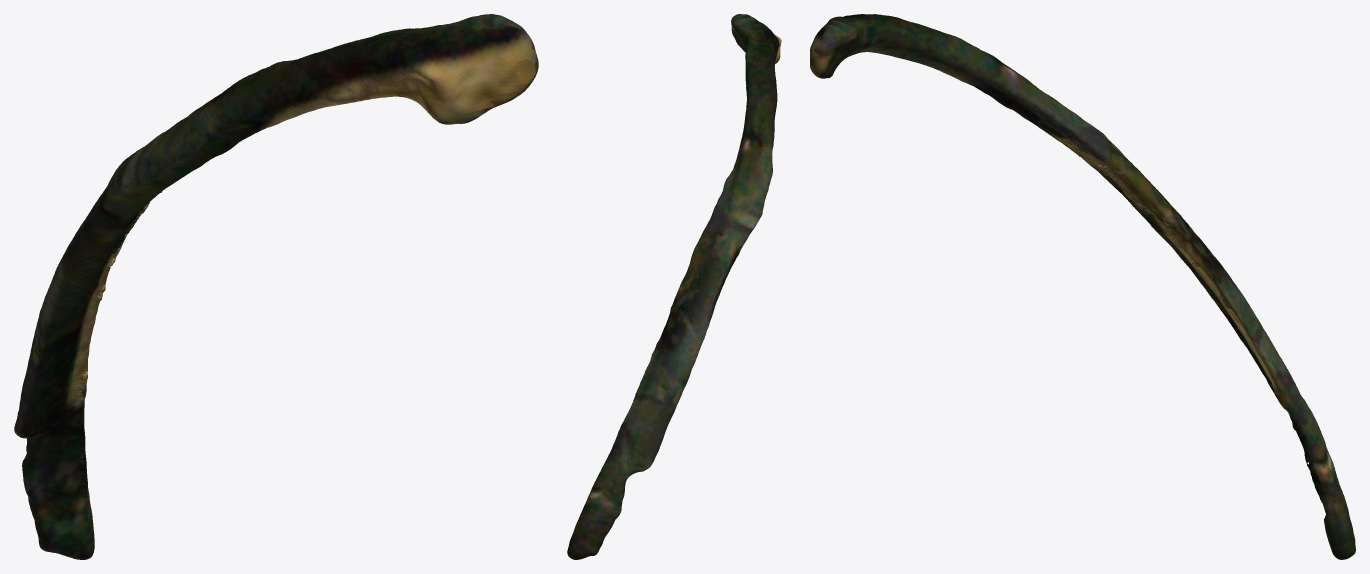
Rendered from 12_ribs.glb.
3 renders of one model, left to right at view 1: azimuth 30°, elevation 25°; view 2: azimuth 150°, elevation 25°; view 3: azimuth 270°, elevation 25°, orthographic. The views are drawn at different scales.
Visible parts, largest first — view 1: Node; view 2: Node; view 3: Node.
Part boxes in pixels (x1,y1,x2,y2): Node: [14, 14, 538, 559]; Node: [567, 14, 781, 559]; Node: [810, 14, 1355, 559].
Bounding box in the file's own units: 13.84 × 46.49 × 42.12.
Materials: 1 (1 with a texture image).
